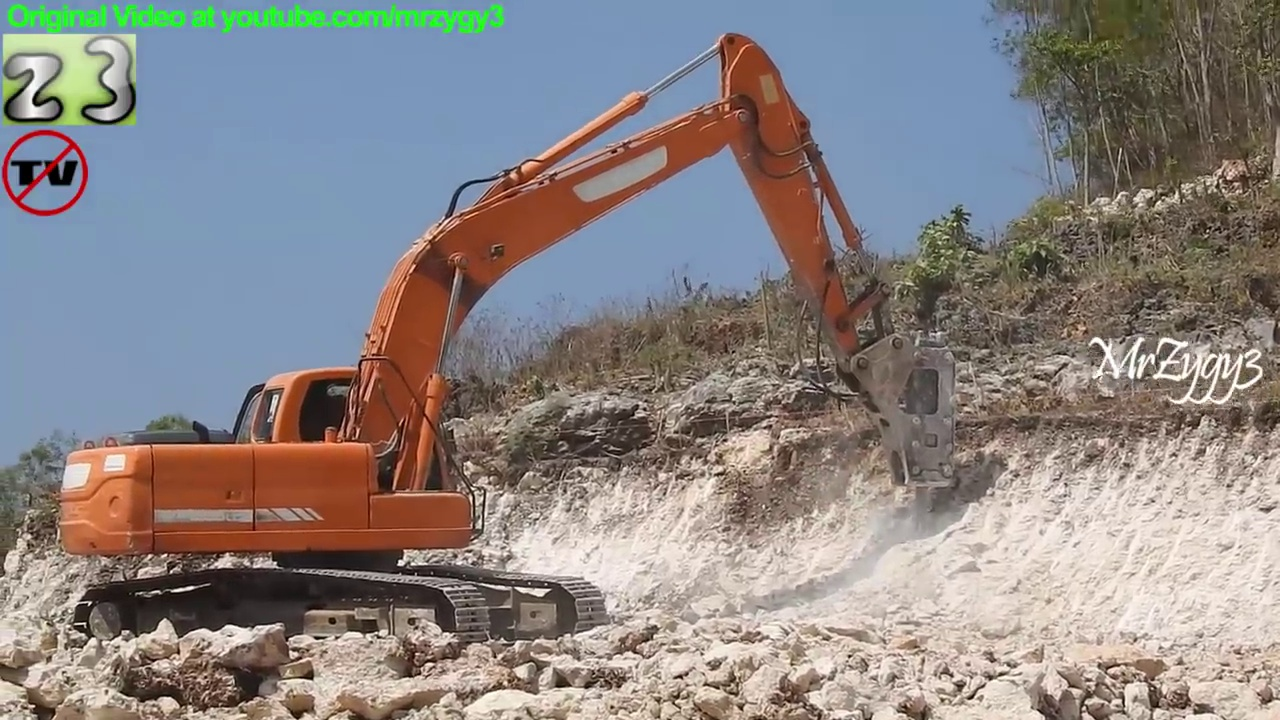excavator: (48, 28, 965, 658)
